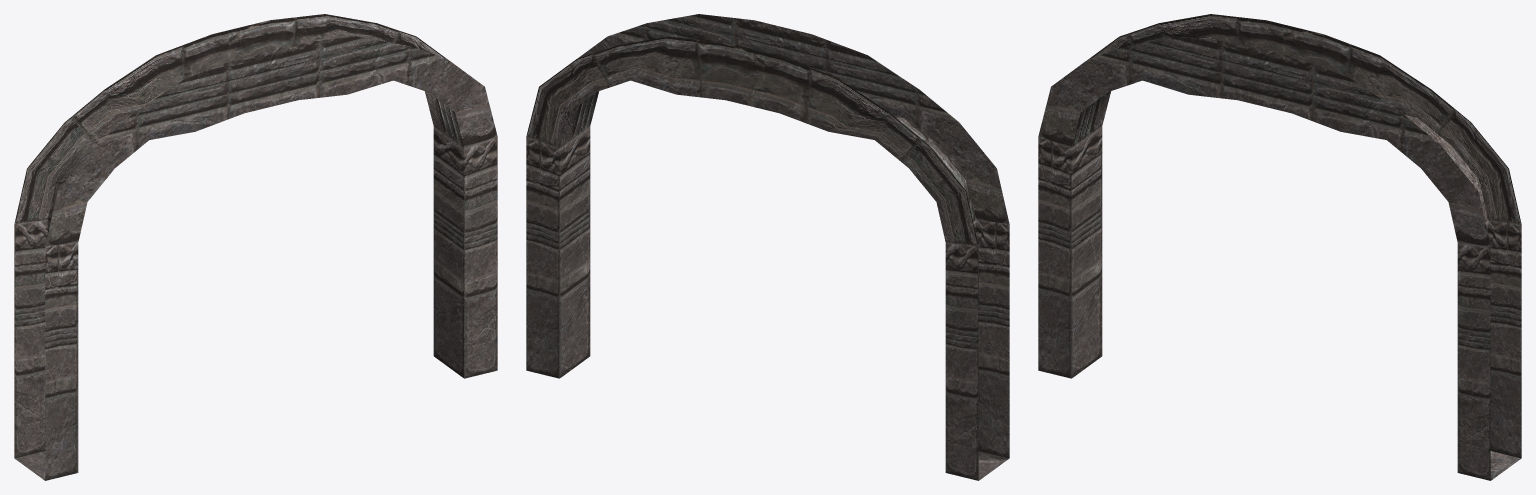
The model's file is 문 테두리.fbx.
The picture shows the model from 3 angles, left to right: view 1: azimuth 30°, elevation 25°; view 2: azimuth 150°, elevation 25°; view 3: azimuth 330°, elevation 25°; orthographic projection.
Visible parts, largest first — view 1: 문; view 2: 문; view 3: 문.
Boxes of the visible parts, bbox=[...] form: 문: bbox=[14, 14, 497, 480]; 문: bbox=[526, 14, 1009, 480]; 문: bbox=[1038, 14, 1521, 480].
Bounding box in the file's own units: 139 × 110 × 16.35.
